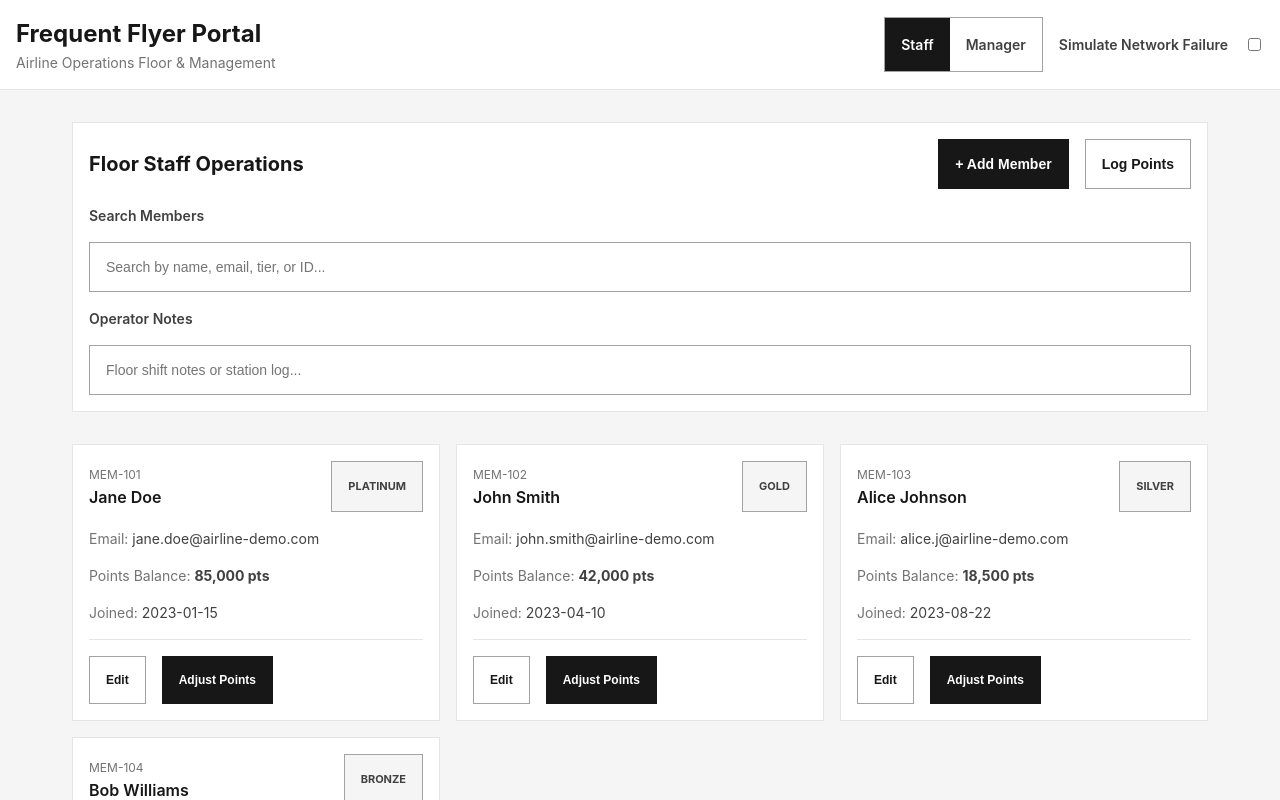
Test: Criterion 4 & 5 & 6: Unhappy Path › Criterion 4: Empty States & Search Misses › shows a friendly "No data found" message when search yields no matches, never a blank screen
Type "NonExistentMemberXYZ999" into the search field labelled "Search Members".
click(640, 267); type("NonExistentMemberXYZ999")  # box top-left (89, 242), bottom-right (1191, 292)
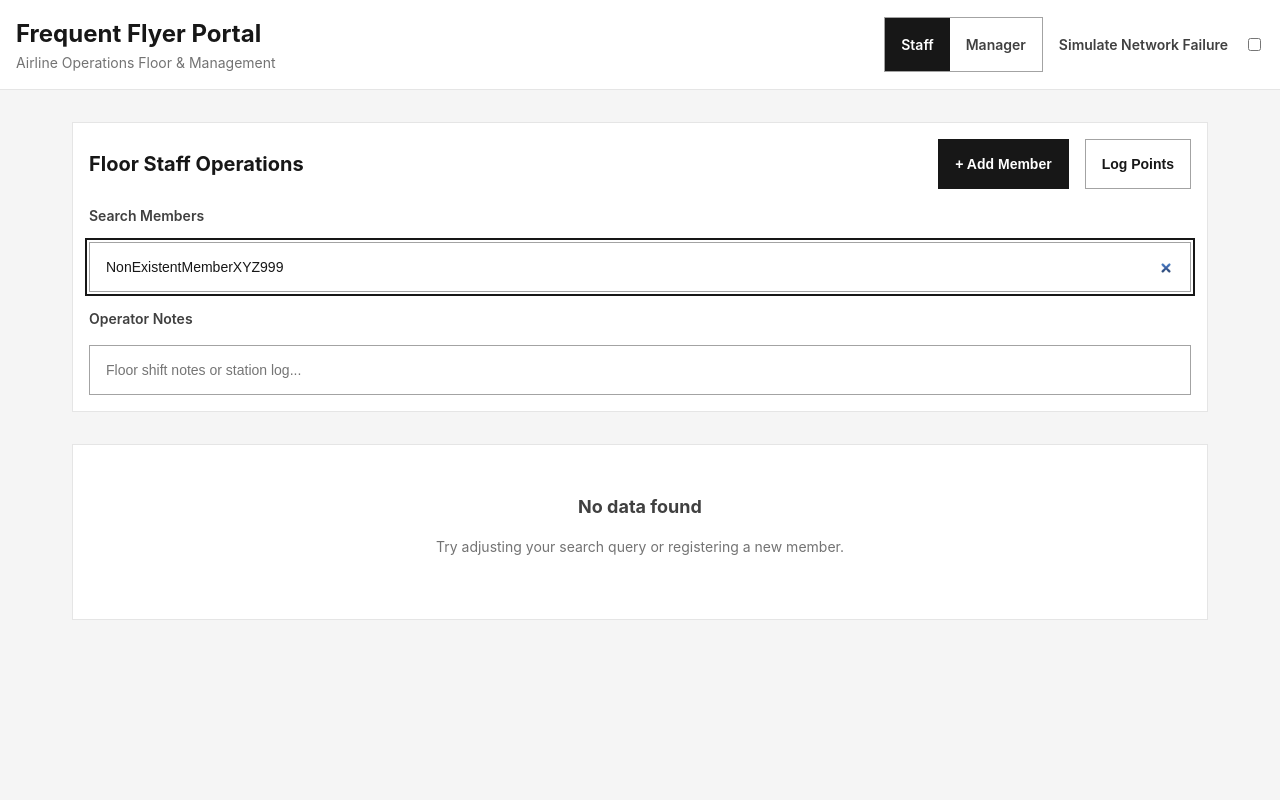
expect the text "No data found" is shown: met, box top-left (578, 496), bottom-right (702, 517)
expect the element with test id "member-list-container" is not empty: met, box top-left (72, 444), bottom-right (1208, 620)
